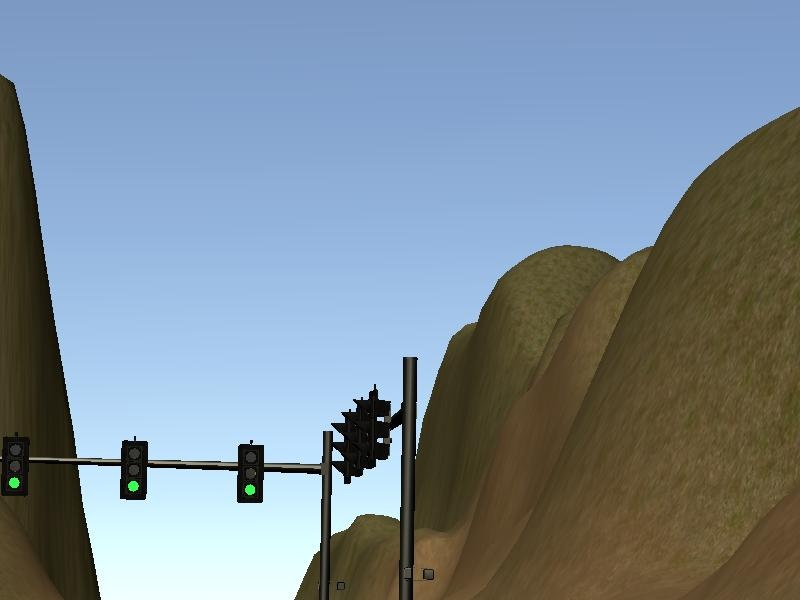green: (119, 438, 151, 499), (1, 438, 30, 499), (239, 444, 265, 502)
